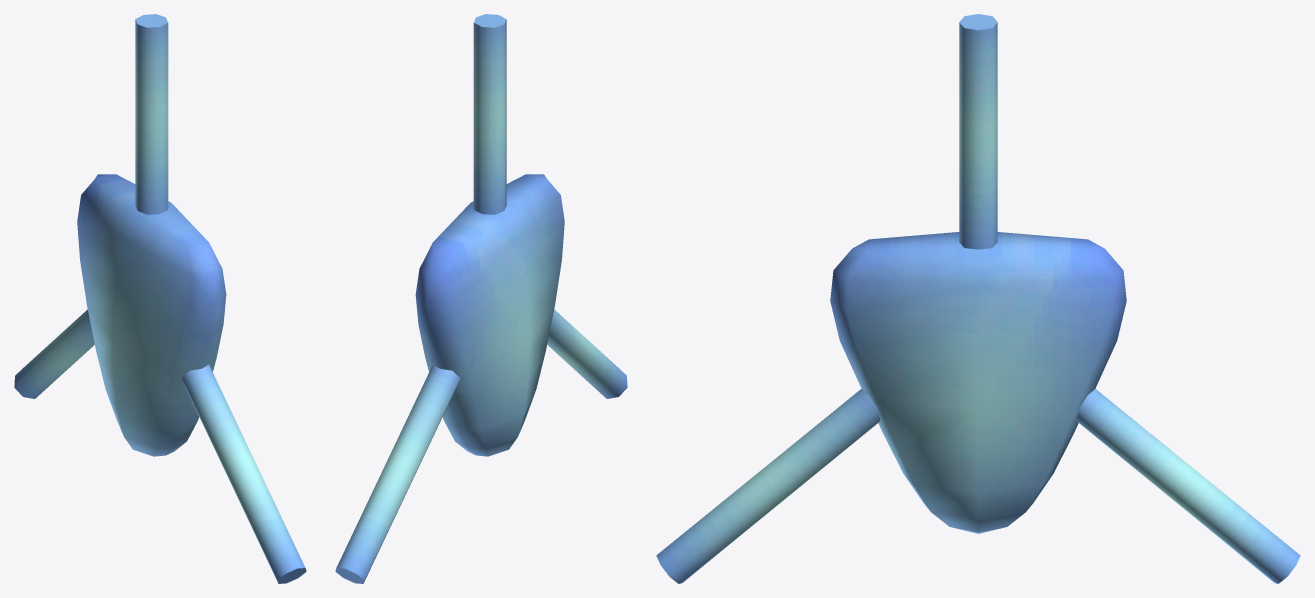
Rendered from ui_hyperspace.fbx.
3 renders of one model, left to right at view 1: azimuth 30°, elevation 25°; view 2: azimuth 150°, elevation 25°; view 3: azimuth 270°, elevation 25°, orthographic. The views are drawn at different scales.
Visible parts, largest first — view 1: mesh_node; view 2: mesh_node; view 3: mesh_node.
Part boxes in pixels (x1,y1,x2,y2): mesh_node: (14, 14, 306, 583); mesh_node: (335, 14, 627, 583); mesh_node: (656, 14, 1300, 583).
Bounding box in the file's own units: 0.1475 × 0.8506 × 0.8941.
